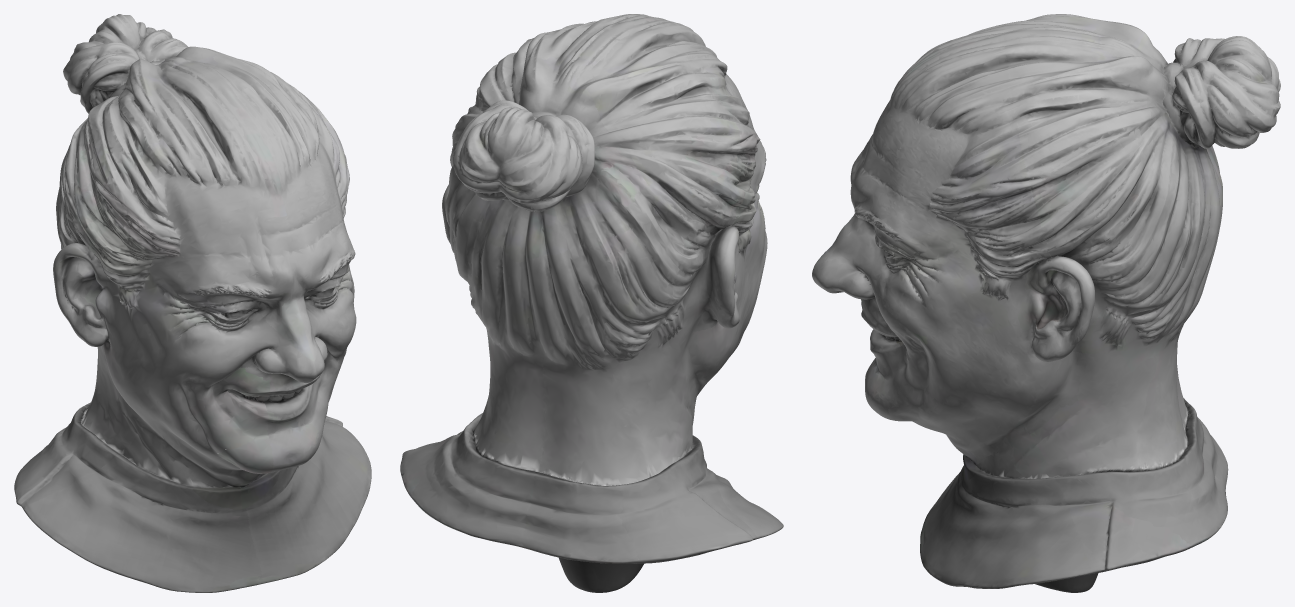
Rendered from bust.glb.
The picture shows the model from 3 angles, left to right: view 1: azimuth 30°, elevation 25°; view 2: azimuth 150°, elevation 25°; view 3: azimuth 270°, elevation 25°; orthographic projection. The views are drawn at different scales.
Visible parts, largest first — view 1: tripo_node_3c17ad4f-eaa1-4882-975d-ffed35460def; view 2: tripo_node_3c17ad4f-eaa1-4882-975d-ffed35460def; view 3: tripo_node_3c17ad4f-eaa1-4882-975d-ffed35460def.
Boxes of the visible parts, left/top/right/bottom form: tripo_node_3c17ad4f-eaa1-4882-975d-ffed35460def: left=14, top=14, right=371, bottom=592; tripo_node_3c17ad4f-eaa1-4882-975d-ffed35460def: left=400, top=14, right=783, bottom=592; tripo_node_3c17ad4f-eaa1-4882-975d-ffed35460def: left=812, top=14, right=1280, bottom=592.
Bounding box in the file's own units: 0.6491 × 0.9577 × 0.7365.
1 material, 1 textured.
